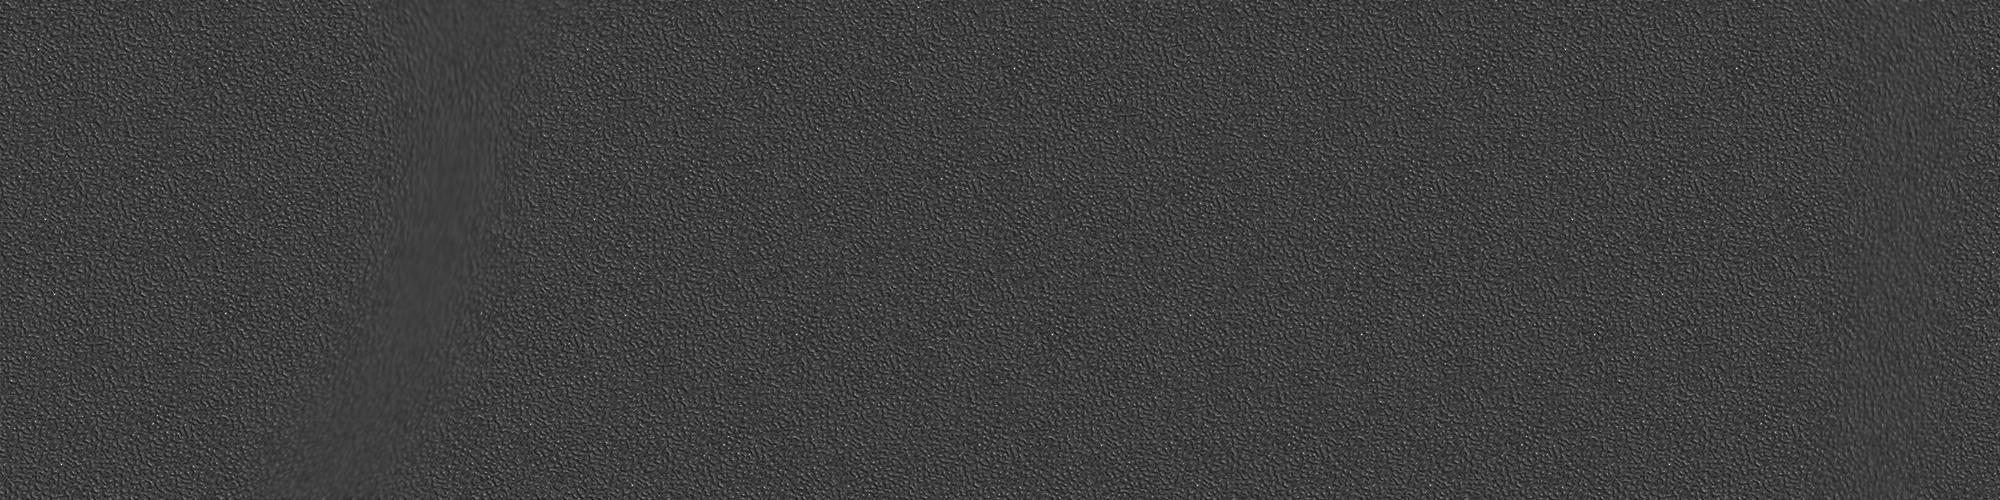Flow_Lines: (358, 10, 523, 489)
